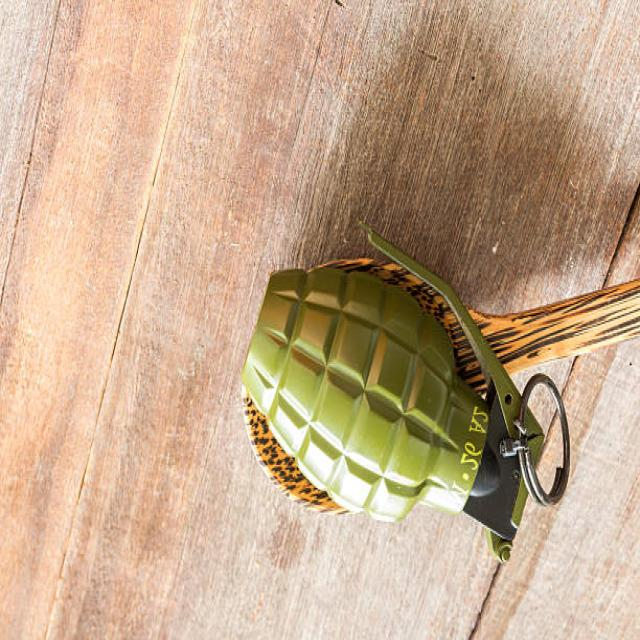grenade: (240, 216, 579, 570)
